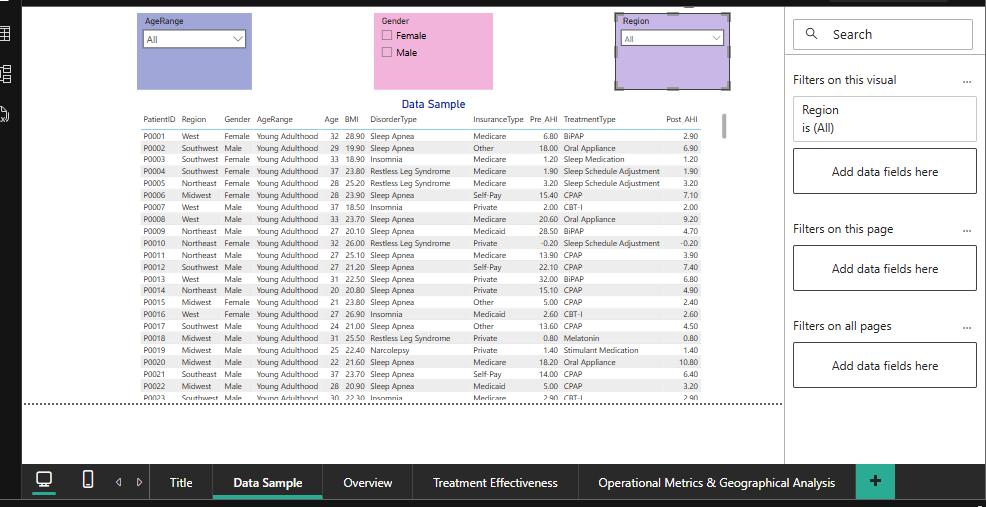

This screenshot's page, from the dashboard's own definition file:
{"tool":"powerbi","page":{"name":"Data Sample","canvas":[1280,720],"ordinal":1},"visuals":[{"type":"tableEx","title":"Data Sample","fields":{"Values":["sleep_disorder_dataset.PatientID","sleep_disorder_dataset.Region","sleep_disorder_dataset.Gender","sleep_disorder_dataset.AgeRange","sleep_disorder_dataset.Age","sleep_disorder_dataset.BMI","sleep_disorder_dataset.DisorderType","sleep_disorder_dataset.InsuranceType","sleep_disorder_dataset.Pre_AHI","sleep_disorder_dataset.TreatmentType","sleep_disorder_dataset.Post_AHI"]},"box":[193.2,206.6,996.1,514],"z":0},{"type":"slicer","fields":{"Values":["sleep_disorder_dataset.AgeRange"]},"box":[193.2,65.5,193.2,129.3],"z":1000},{"type":"slicer","fields":{"Values":["sleep_disorder_dataset.Gender"]},"box":[591.3,65.5,199.9,129.3],"z":2000},{"type":"slicer","fields":{"Values":["sleep_disorder_dataset.Region"]},"box":[996.1,65.5,193.2,129.3],"z":3000}]}

Visuals, with their boxes on the page's 1280x720 design canvas (x1, y1, x2, y2). These are canvas units, not pixel positions in the 986x507 screenshot, which may show the page scaled, cropped or inside an application window:
"Data Sample" tableEx: [193,207,1189,721]
slicer - sleep_disorder_dataset.AgeRange: [193,66,386,195]
slicer - sleep_disorder_dataset.Gender: [591,66,791,195]
slicer - sleep_disorder_dataset.Region: [996,66,1189,195]
